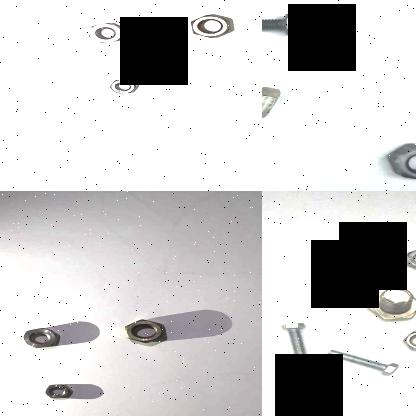Bolts: (324, 347, 402, 382), (365, 284, 416, 323), (278, 319, 318, 367), (262, 9, 312, 43), (262, 67, 288, 125)
NUTS: (274, 380, 328, 412), (378, 139, 416, 183), (186, 12, 236, 38), (121, 318, 169, 342), (86, 20, 130, 46), (20, 326, 64, 350), (42, 380, 73, 400), (105, 77, 141, 94), (398, 326, 416, 358), (401, 240, 416, 274)
